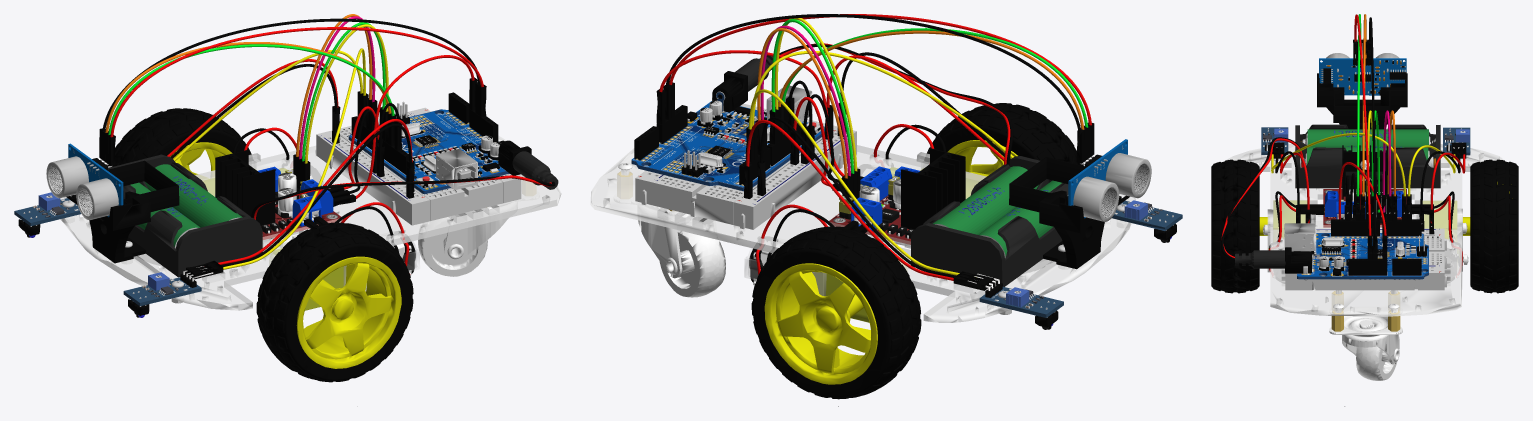
Rendered from ultrasonic-classroom.glb.
3 views of the same model, side by side, from view 1: azimuth 30°, elevation 25°; view 2: azimuth 150°, elevation 25°; view 3: azimuth 270°, elevation 25° (orthographic). The views are drawn at different scales.
Visible parts, largest first — view 1: Fio.017, Roda.004; view 2: Fio.017, Roda.004; view 3: Fio.017, Roda.004.
Boxes of the visible parts, left/top/right/bottom form: Fio.017: left=14, top=14, right=561, bottom=317; Roda.004: left=107, top=108, right=413, bottom=382; Fio.017: left=590, top=14, right=1182, bottom=406; Roda.004: left=751, top=103, right=1083, bottom=399; Fio.017: left=1221, top=14, right=1503, bottom=406; Roda.004: left=1211, top=159, right=1518, bottom=293.
Bounding box in the file's own units: 0.2253 × 0.1838 × 0.1585.
Materials: 81 (2 with a texture image).
